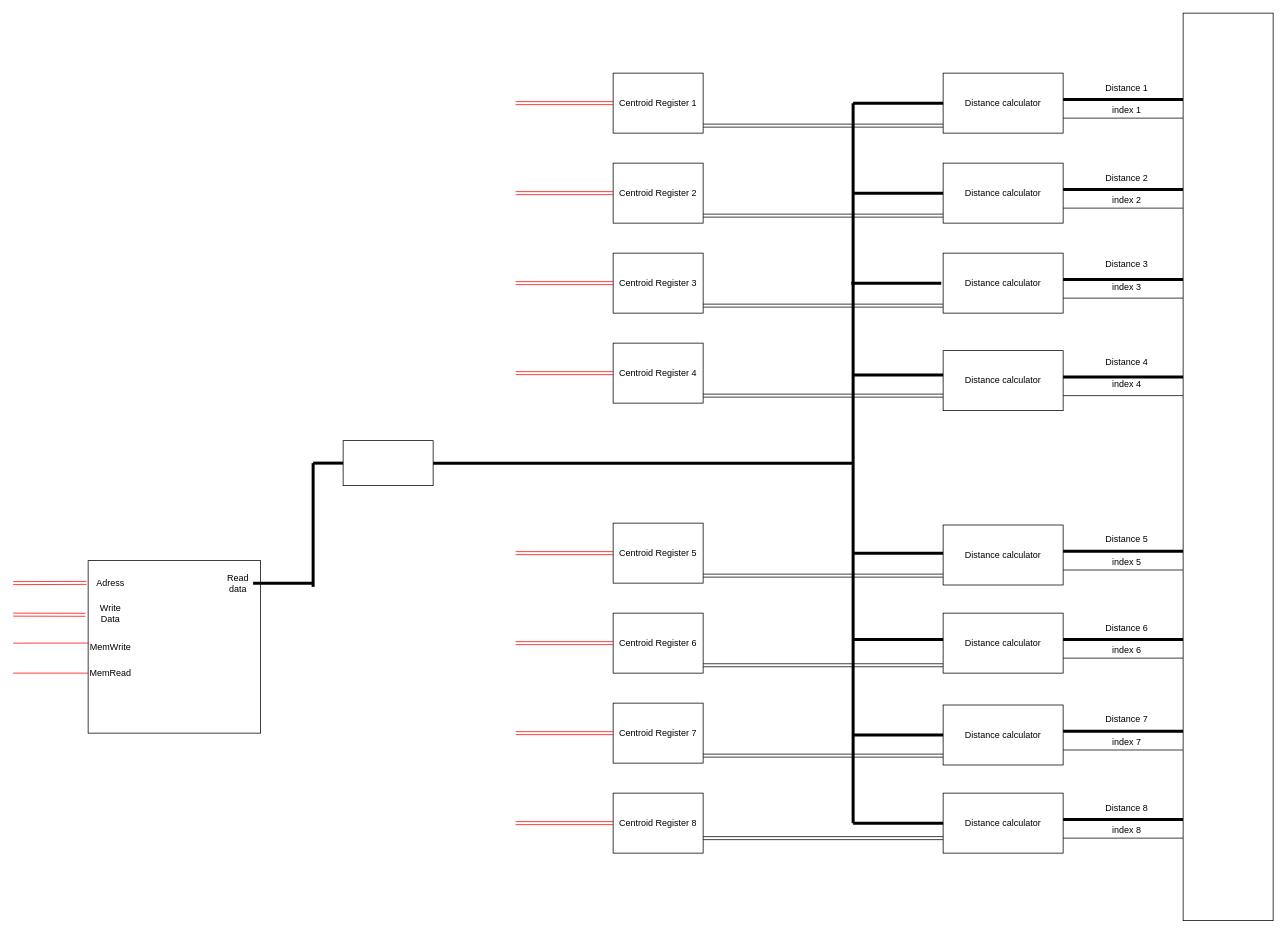
The diagram is 1287 pixels wide and 934 high, and some of its shapes have lost their labels. Here are the shapes that lost their labels. From the top down, the box of each, then its label:
(342, 440, 433, 486): Input Register
(87, 560, 261, 733): RAM
